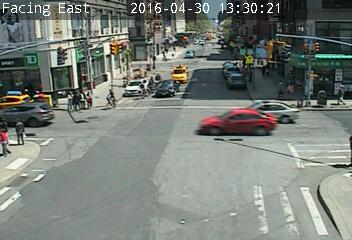neg: (99, 81, 120, 110), (97, 12, 115, 36), (134, 77, 151, 100), (230, 6, 247, 28), (287, 151, 303, 173), (69, 115, 85, 137), (327, 148, 342, 168), (144, 12, 159, 31), (37, 159, 51, 178), (321, 193, 334, 211), (311, 93, 323, 110), (141, 146, 153, 163), (299, 184, 311, 200), (92, 123, 104, 139), (317, 30, 328, 45), (229, 49, 240, 64), (189, 78, 200, 93), (270, 200, 281, 215), (168, 114, 179, 128), (54, 27, 64, 41), (9, 5, 19, 19), (222, 99, 232, 112), (22, 41, 32, 54), (178, 19, 187, 32), (275, 29, 284, 41), (55, 54, 64, 66), (171, 66, 179, 77), (97, 40, 105, 51), (244, 172, 252, 182), (310, 9, 318, 19), (188, 117, 195, 126), (135, 112, 142, 121), (260, 105, 267, 113), (199, 34, 205, 43), (207, 60, 212, 67), (201, 49, 206, 55)
pos: (330, 80, 351, 108), (281, 77, 301, 103), (70, 85, 89, 111), (10, 116, 29, 141), (67, 87, 85, 112), (79, 84, 97, 107), (271, 78, 288, 100), (61, 88, 78, 110), (259, 64, 270, 78), (170, 43, 178, 53), (165, 44, 171, 53)
